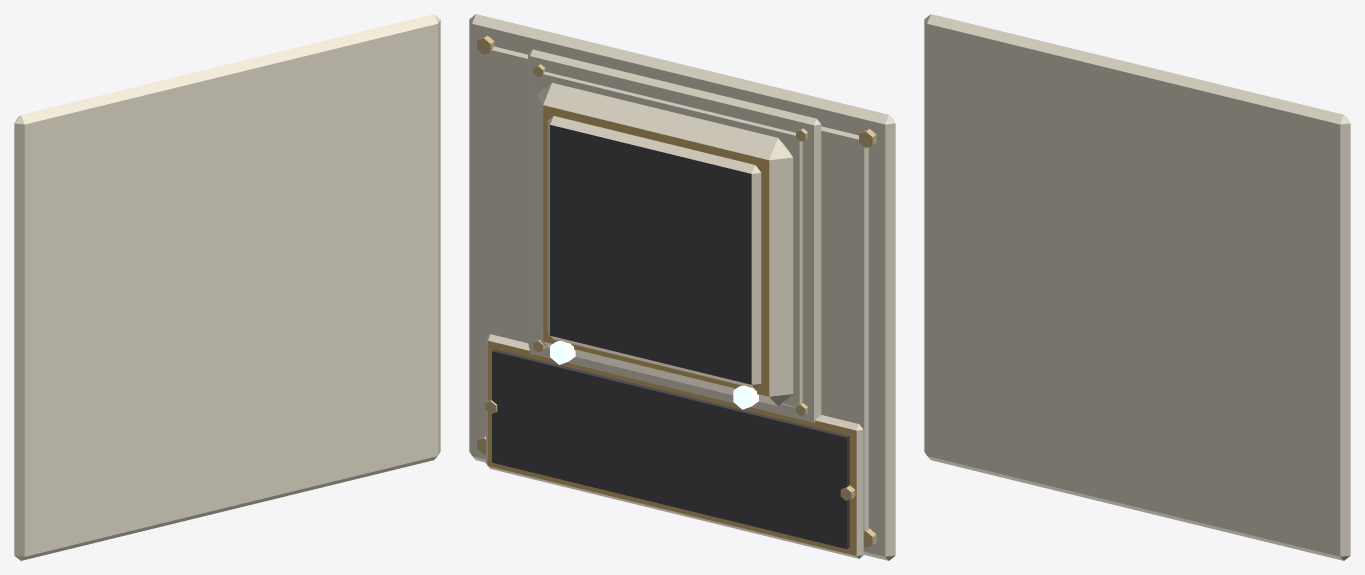
The model's file is Disp_Rune.fbx.
The picture shows the model from 3 angles, left to right: view 1: azimuth 30°, elevation 25°; view 2: azimuth 150°, elevation 25°; view 3: azimuth 330°, elevation 25°; orthographic projection.
Parts seen in each view (by area): view 1: Disp_Rune; view 2: Disp_Rune; view 3: Disp_Rune.
Boxes of the visible parts, bbox=[...] form: Disp_Rune: bbox=[14, 14, 440, 560]; Disp_Rune: bbox=[469, 14, 895, 560]; Disp_Rune: bbox=[924, 14, 1350, 560].
Bounding box in the file's own units: 0.96 × 0.96 × 0.1381.
